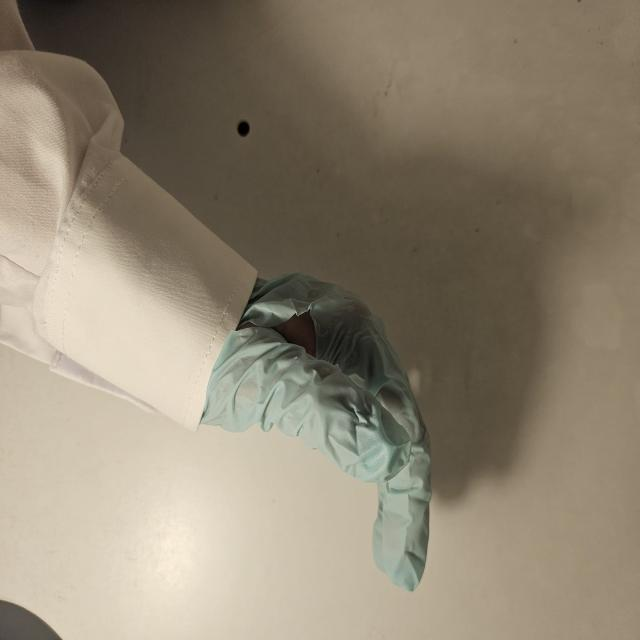gloves_damaged: (198, 269, 436, 592)
